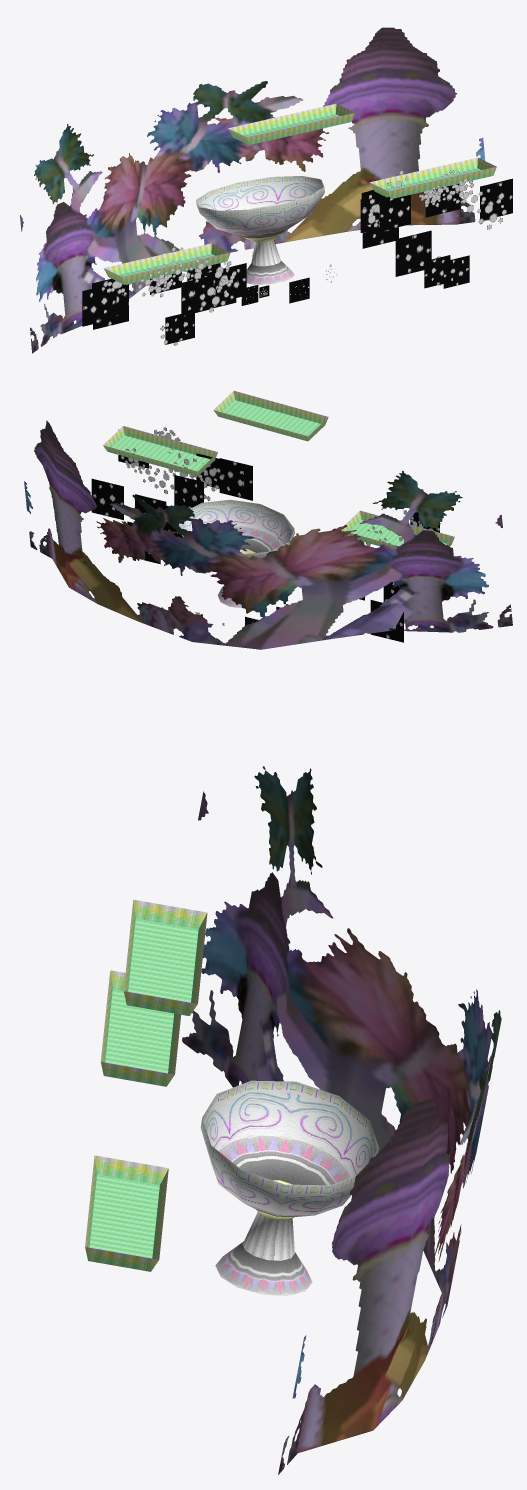
Rendered from Fountain of Dreams Reflection.obj.
The picture shows the model from 3 angles, top to bottom: view 1: azimuth 30°, elevation 25°; view 2: azimuth 150°, elevation 25°; view 3: azimuth 270°, elevation 25°; orthographic projection. The views are drawn at different scales.
Visible parts, largest first — view 1: Fountain_of_Dreams_Reflection; view 2: Fountain_of_Dreams_Reflection; view 3: Fountain_of_Dreams_Reflection.
Boxes of the visible parts, <box> form: Fountain_of_Dreams_Reflection: <box>20,27,512,353</box>; Fountain_of_Dreams_Reflection: <box>24,391,512,649</box>; Fountain_of_Dreams_Reflection: <box>85,766,501,1474</box>.
Size of the model in its own units: 132 by 55.84 by 64.53.
Materials: 15 (15 with a texture image).
